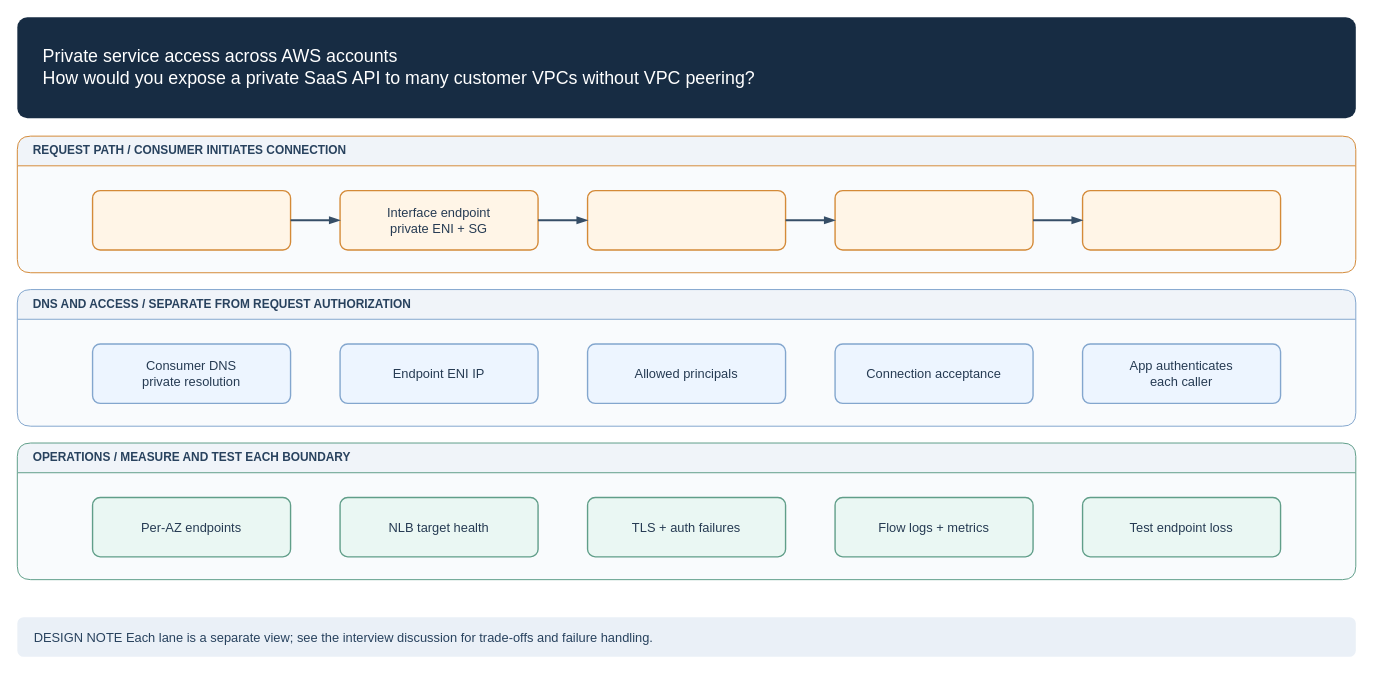
Image size: 1373x673. Some labels were removed from this diagram. Each missing label, with the centre of its shape:
Consumer workload: point 191,219
Endpoint service AWS PrivateLink: point 686,219
Healthy API targets: point 1181,219
Provider NLB: point 933,219
